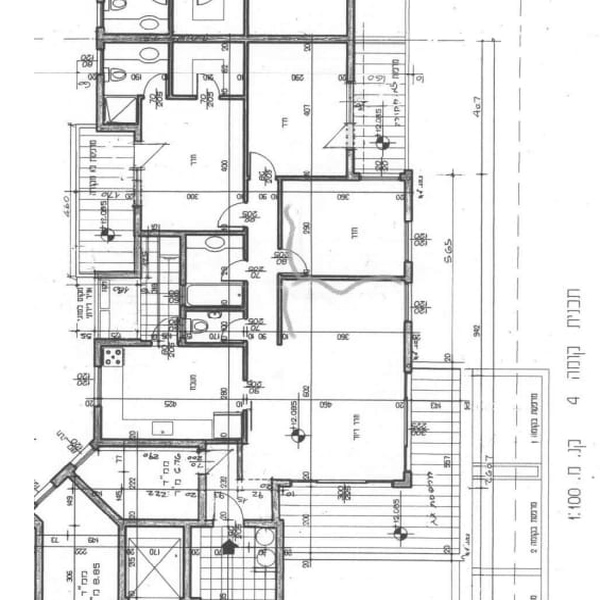door: (244, 144, 282, 184), (209, 491, 247, 527), (211, 198, 248, 234), (212, 260, 253, 288), (281, 243, 313, 278), (214, 317, 253, 344), (140, 70, 168, 103), (197, 70, 222, 99)
room: (270, 277, 415, 493), (238, 27, 362, 182), (88, 336, 258, 447), (129, 93, 252, 244), (268, 167, 415, 286), (127, 225, 254, 346), (117, 518, 295, 600), (159, 34, 247, 104)
wall: (96, 31, 350, 46), (240, 1, 251, 201), (268, 271, 413, 285), (118, 517, 217, 535), (92, 434, 250, 445), (179, 512, 197, 600), (162, 5, 177, 100), (117, 508, 132, 600), (175, 303, 256, 319), (342, 4, 357, 82), (272, 170, 286, 253), (139, 226, 253, 236), (273, 277, 288, 347), (398, 171, 417, 222), (92, 74, 107, 136), (196, 473, 213, 526), (94, 334, 150, 350), (131, 204, 142, 282), (399, 323, 416, 370), (98, 116, 136, 137), (278, 174, 349, 185), (90, 407, 110, 446), (185, 338, 247, 350), (177, 229, 189, 284), (241, 340, 256, 383), (240, 409, 251, 441)
window: (399, 222, 416, 264), (95, 362, 107, 405), (402, 280, 413, 322), (345, 89, 357, 124), (94, 47, 108, 72), (95, 3, 107, 27)
